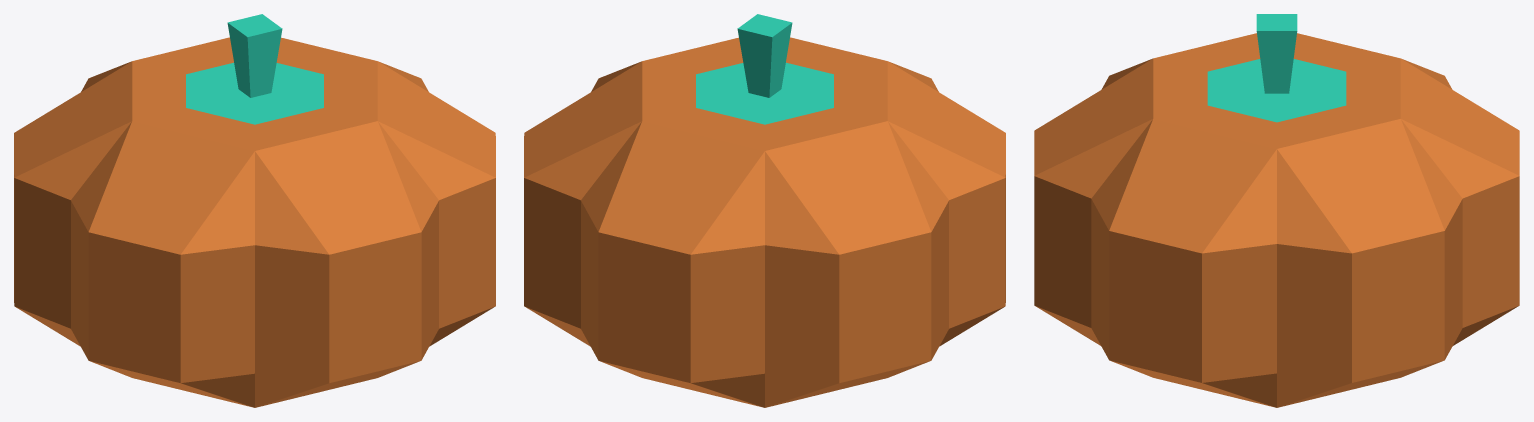
The model's file is pumpkin.glb.
3 renders of one model, left to right at view 1: azimuth 30°, elevation 25°; view 2: azimuth 150°, elevation 25°; view 3: azimuth 270°, elevation 25°, orthographic.
Visible parts, largest first — view 1: crop_pumpkin; view 2: crop_pumpkin; view 3: crop_pumpkin.
Boxes of the visible parts, <box> form: crop_pumpkin: <box>14,14,495,407</box>; crop_pumpkin: <box>524,14,1005,407</box>; crop_pumpkin: <box>1034,14,1519,407</box>.
Size of the model in its own units: 0.4412 by 0.3338 by 0.452.
